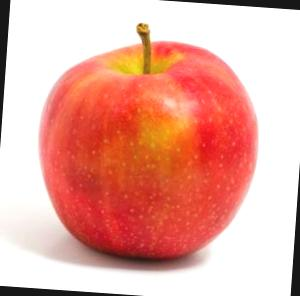Apple Ripe: (21, 29, 262, 274)
